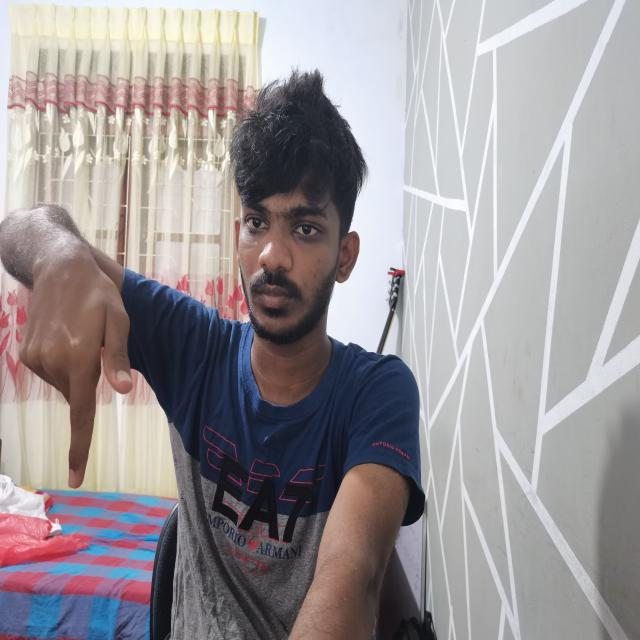Yes: (2, 191, 156, 496)
